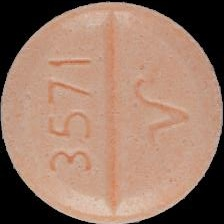66336-184: (0, 0, 224, 224)
